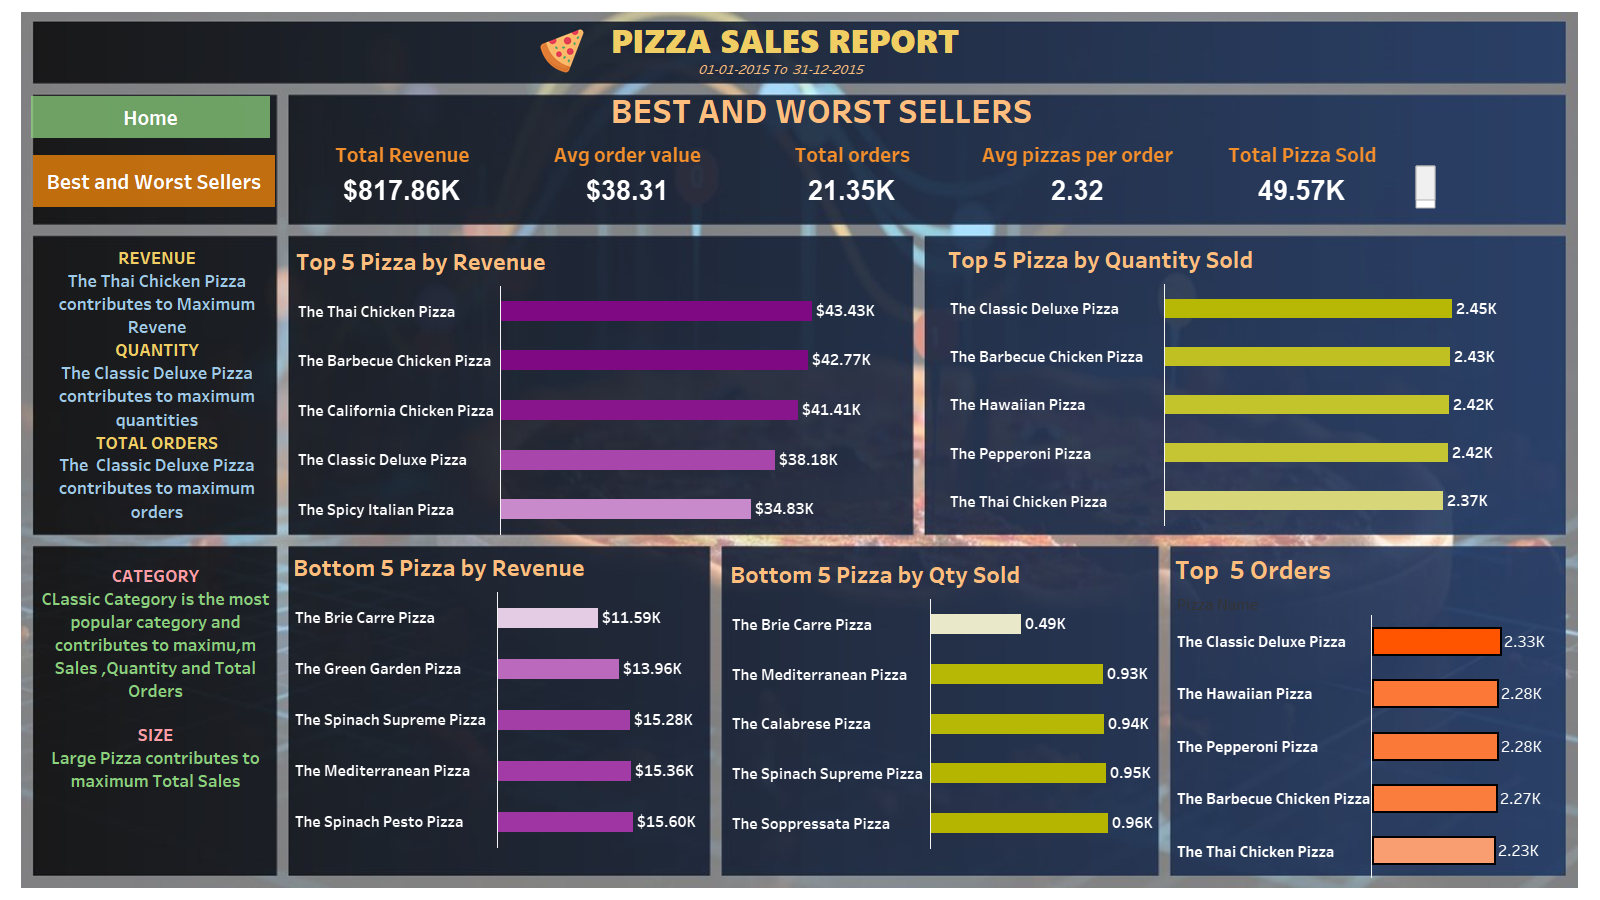

The dashboard page shown, as its layout file describes it:
{"tool":"tableau","page":{"name":"Dashboard 2","canvas":[1600,900],"ordinal":1},"visuals":[{"type":"image","param":"C:/Users/BOSS/Downloads/Pizza Tableau 1.jpg","box":[8,8,1584,884]},{"type":"text","box":[18,18,1534,42]},{"type":"image","param":"C:/Users/BOSS/AppData/Local/Temp/TableauTemp/1u362de15p8uc21b49opb0erf5tx/Sheets","box":[533,28,57,45]},{"type":"worksheet","title":"Date Range","mark":"Automatic","box":[621,44,322,36]},{"type":"text","box":[550,81,543,58]},{"type":"dashboard-object","box":[31,96,239,42]},{"type":"worksheet","title":"KPI BANNER (2)","mark":"Automatic","box":[290,127,1281,81]},{"type":"dashboard-object","box":[33,155,242,52]},{"type":"worksheet","title":"Top 5 Pizza by Qty Sold","mark":"Automatic","rows":["pizza_name"],"cols":["quantity"],"box":[944,237,572,288]},{"type":"worksheet","title":"Top 5 Pizza by Revenue","mark":"Automatic","rows":["pizza_name"],"cols":["Calculation_1378101540625268736"],"box":[292,239,603,295]},{"type":"text","box":[35,241,244,295]},{"type":"text","box":[37,520,237,322]},{"type":"worksheet","title":"Bottom 5 Pizza by Revenue ","mark":"Automatic","rows":["pizza_name"],"cols":["Calculation_1378101540625268736"],"box":[289,545,418,302]},{"type":"worksheet","title":"Top and Bottom 5 Orders ","mark":"Automatic","rows":["pizza_name"],"cols":["Calculation_1378101540626079745"],"box":[1171,546,384,331]},{"type":"worksheet","title":"Bottom 5 pizza sold","mark":"Automatic","rows":["pizza_name"],"cols":["quantity"],"box":[726,552,440,296]}]}

Visuals, with their boxes in screenshot pixels (x1, y1, x2, y2), scaled from the page's 1600x900 canvas onto the 1600x900 screenshot:
image: [left=8, top=8, right=1592, bottom=892]
text: [left=18, top=18, right=1552, bottom=60]
image: [left=533, top=28, right=590, bottom=73]
"Date Range" worksheet: [left=621, top=44, right=943, bottom=80]
text: [left=550, top=81, right=1093, bottom=139]
dashboard-object: [left=31, top=96, right=270, bottom=138]
"KPI BANNER (2)" worksheet: [left=290, top=127, right=1571, bottom=208]
dashboard-object: [left=33, top=155, right=275, bottom=207]
"Top 5 Pizza by Qty Sold" worksheet: [left=944, top=237, right=1516, bottom=525]
"Top 5 Pizza by Revenue" worksheet: [left=292, top=239, right=895, bottom=534]
text: [left=35, top=241, right=279, bottom=536]
text: [left=37, top=520, right=274, bottom=842]
"Bottom 5 Pizza by Revenue " worksheet: [left=289, top=545, right=707, bottom=847]
"Top and Bottom 5 Orders " worksheet: [left=1171, top=546, right=1555, bottom=877]
"Bottom 5 pizza sold" worksheet: [left=726, top=552, right=1166, bottom=848]
